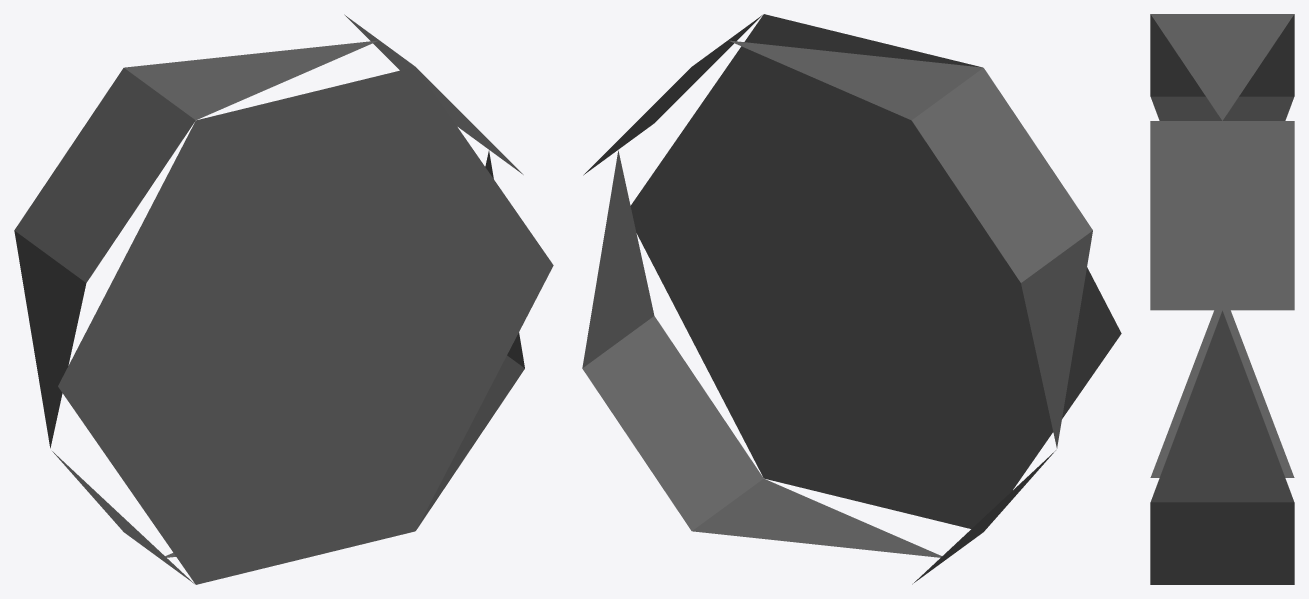
File: Wheel-0.7.gltf
3 renders of one model, left to right at view 1: azimuth 30°, elevation 25°; view 2: azimuth 150°, elevation 25°; view 3: azimuth 270°, elevation 25°, orthographic.
Visible parts, largest first — view 1: Wheel; view 2: Wheel; view 3: Wheel.
Part boxes in pixels (x1,y1,x2,y2): Wheel: (14,14,553,584); Wheel: (582,14,1121,584); Wheel: (1150,14,1294,584).
Size of the model in its own units: 0.0138 by 0.0123 by 0.00347.
1 material, 1 textured.
